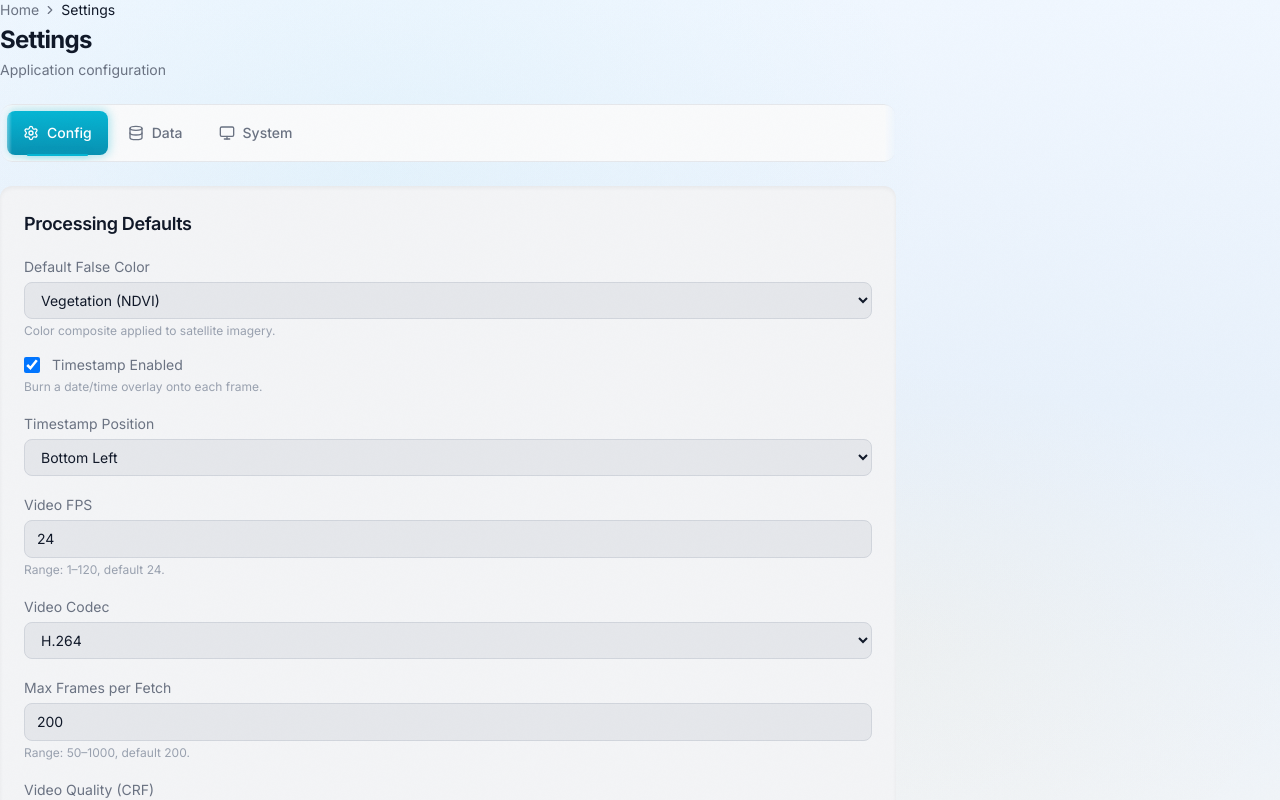
Settings - storage section empty (System tab) › does not render satellite section when empty
Step 1. Click the tab with aria-label "System tab" → (255, 133), box [202,111,308,155]
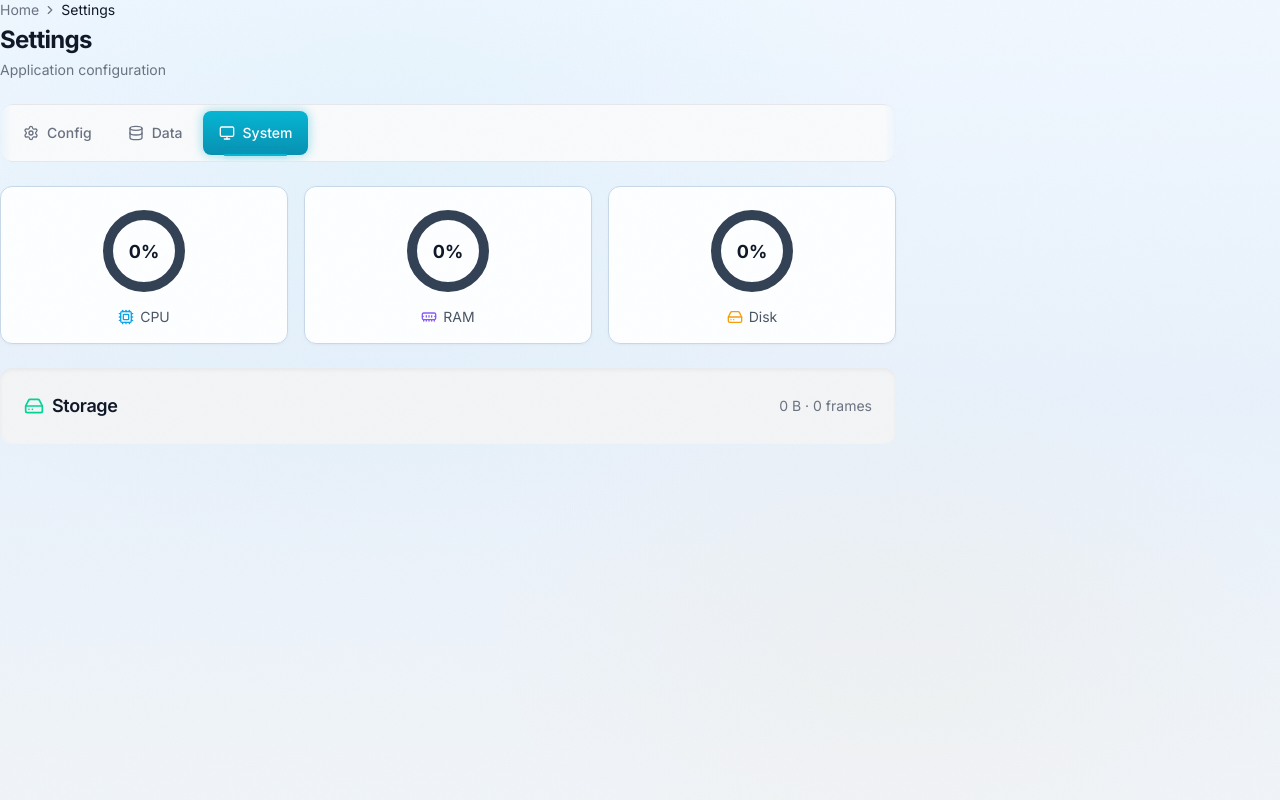
Result: the heading "Storage" is shown at [52,392,118,420]
